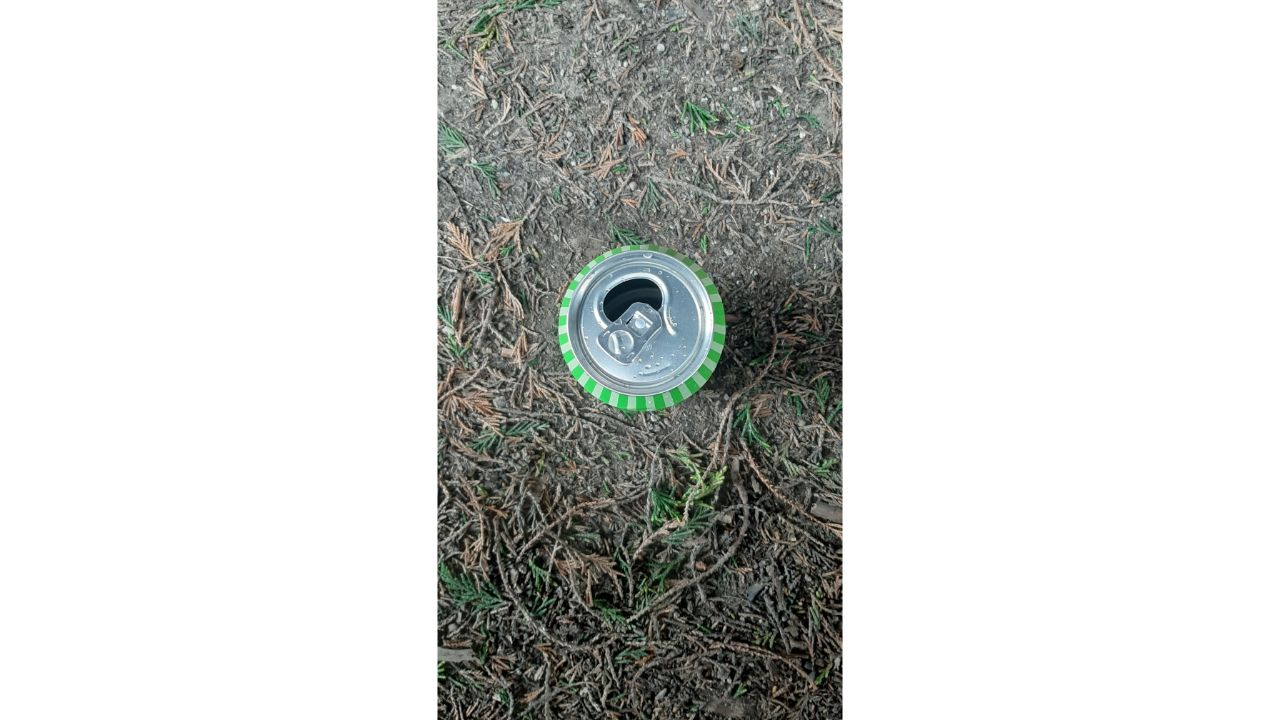Can: (548, 233, 746, 434)
